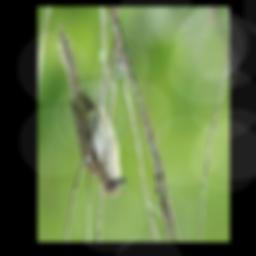Cuckoo: (58, 25, 126, 196)
